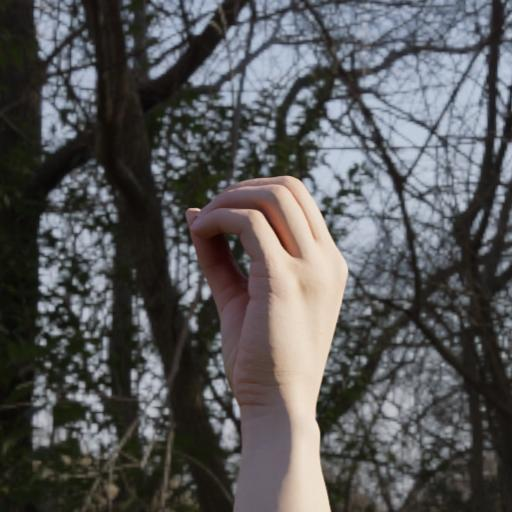O: (182, 171, 353, 424)
